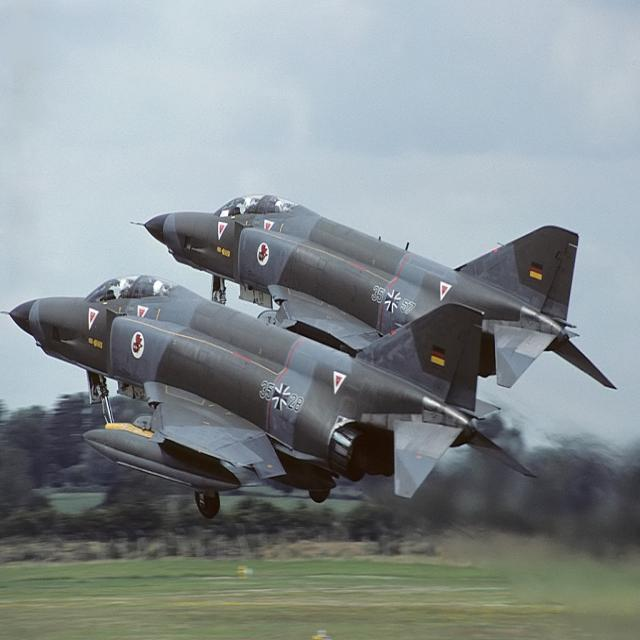MIL_Plane: (0, 273, 538, 517), (130, 193, 618, 390)
